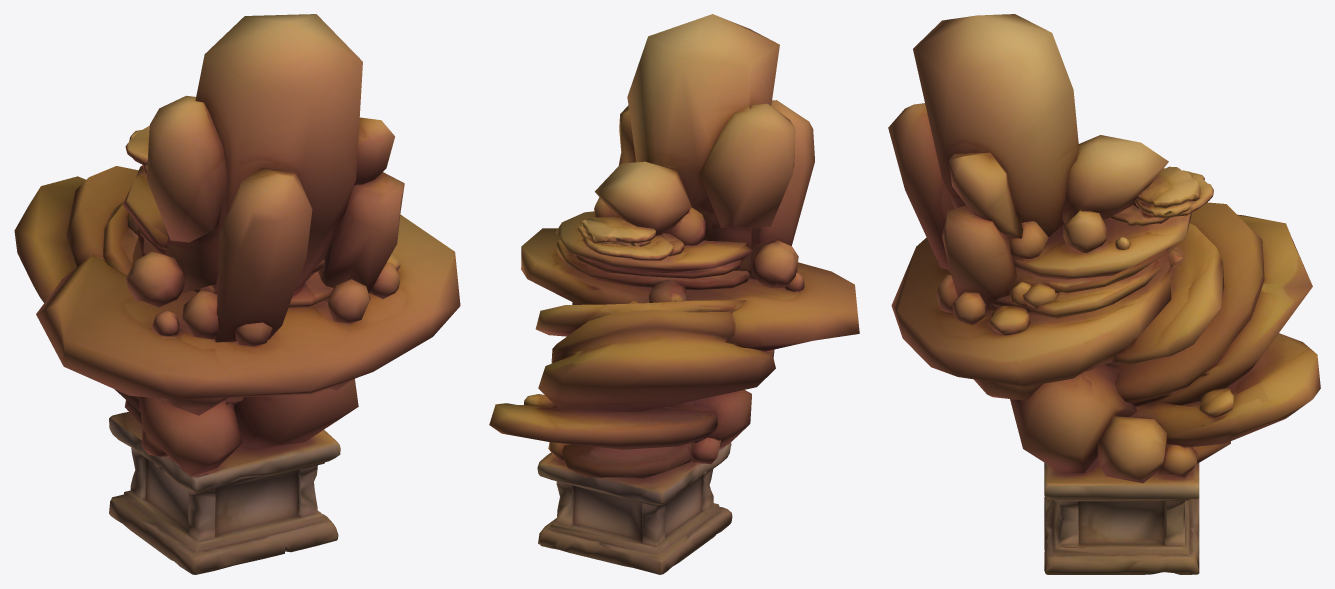
File: earth_restrain_t3.glb
The picture shows the model from 3 angles, left to right: view 1: azimuth 30°, elevation 25°; view 2: azimuth 150°, elevation 25°; view 3: azimuth 270°, elevation 25°; orthographic projection. The views are drawn at different scales.
Visible parts, largest first — view 1: tripo_node_9cd69ae9-f2ff-4b7e-84d2-2d2f3869a092; view 2: tripo_node_9cd69ae9-f2ff-4b7e-84d2-2d2f3869a092; view 3: tripo_node_9cd69ae9-f2ff-4b7e-84d2-2d2f3869a092.
Boxes of the visible parts, <box> form: tripo_node_9cd69ae9-f2ff-4b7e-84d2-2d2f3869a092: <box>14,14,460,574</box>; tripo_node_9cd69ae9-f2ff-4b7e-84d2-2d2f3869a092: <box>489,14,859,574</box>; tripo_node_9cd69ae9-f2ff-4b7e-84d2-2d2f3869a092: <box>888,14,1320,574</box>.
Size of the model in its own units: 0.7129 by 0.998 by 0.752.
1 material, 1 textured.
